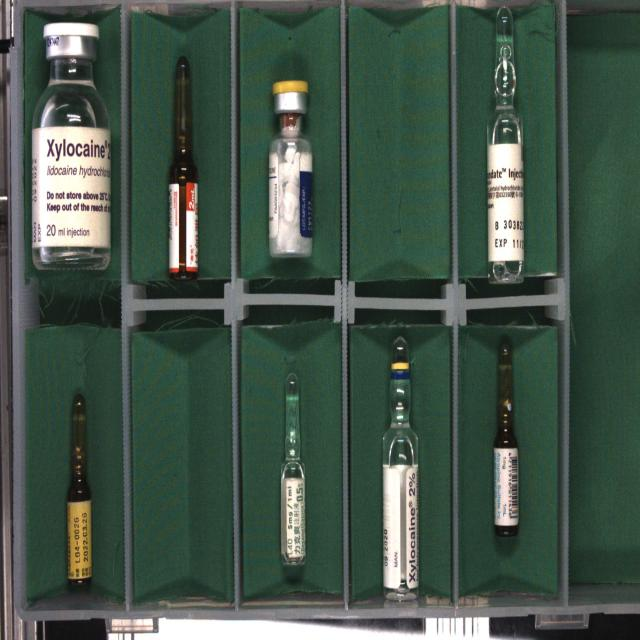Vials: (31, 22, 110, 269), (269, 80, 312, 257)
